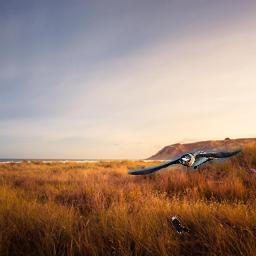Swallow: (127, 145, 243, 175)
Woodpecker: (169, 215, 193, 236)
